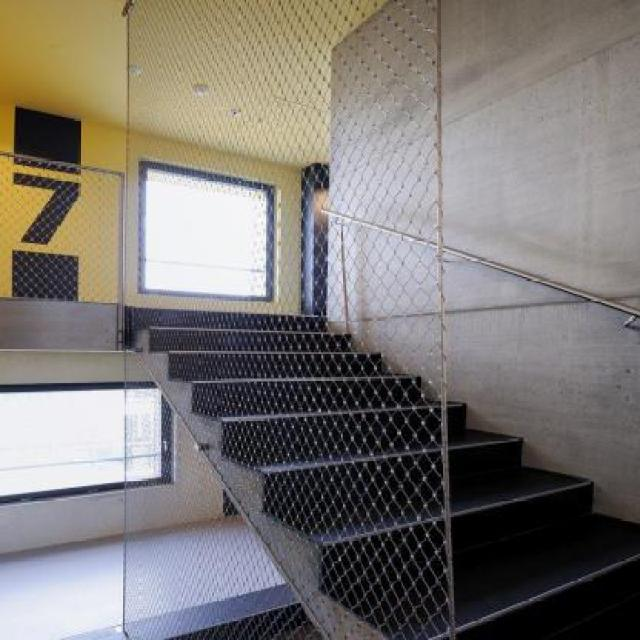stair: (119, 239, 638, 639)
